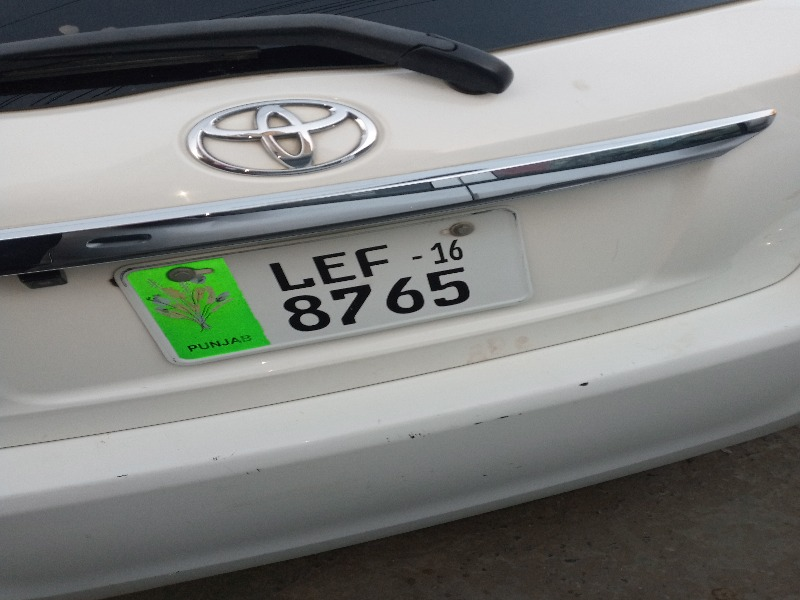License Plate: (127, 205, 533, 367)
